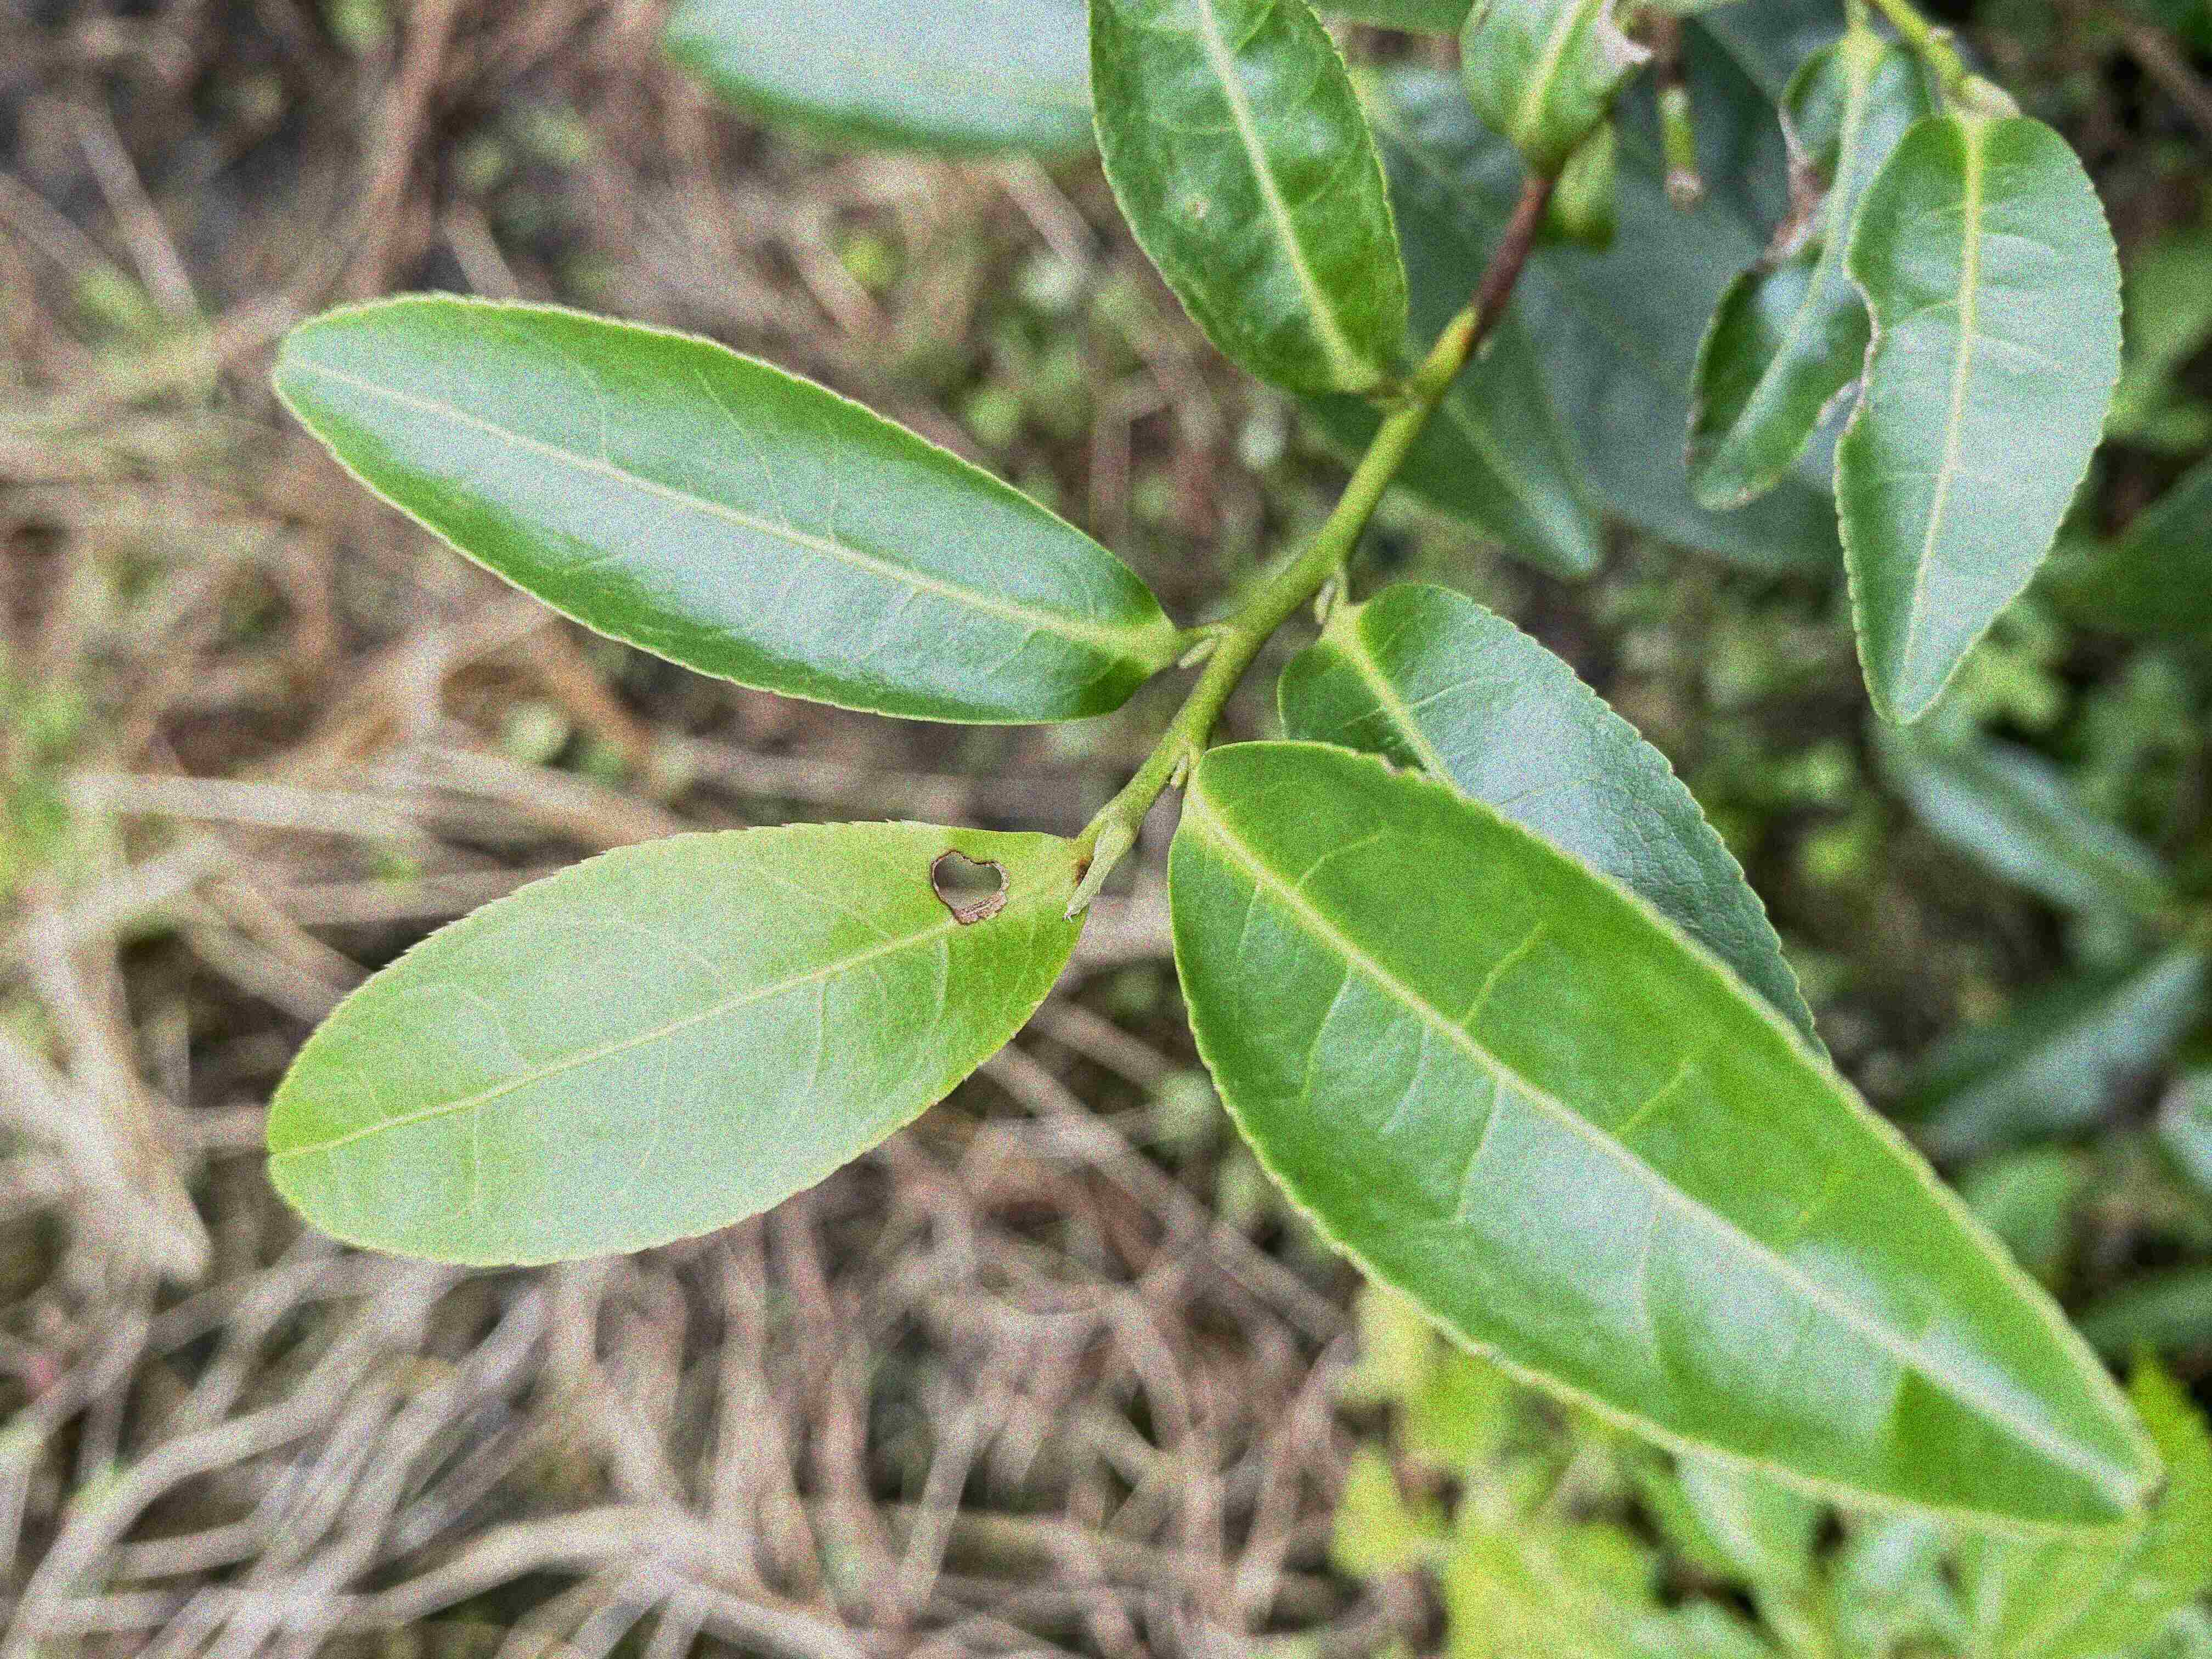chihuo_low: (263, 817, 1092, 1274), (1838, 110, 2125, 723)
healthy: (1165, 734, 2163, 1542), (270, 293, 1174, 725)
tanju_low: (1082, 3, 1409, 396)
